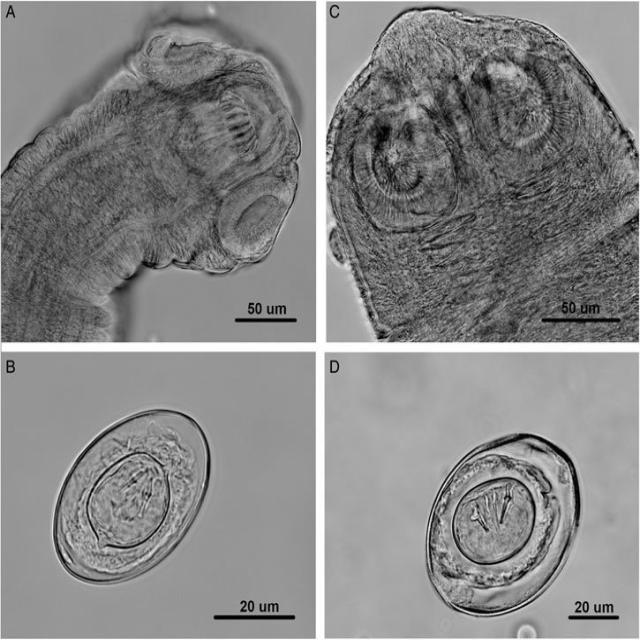Hymenolepis: (34, 389, 230, 588), (407, 419, 591, 622)
